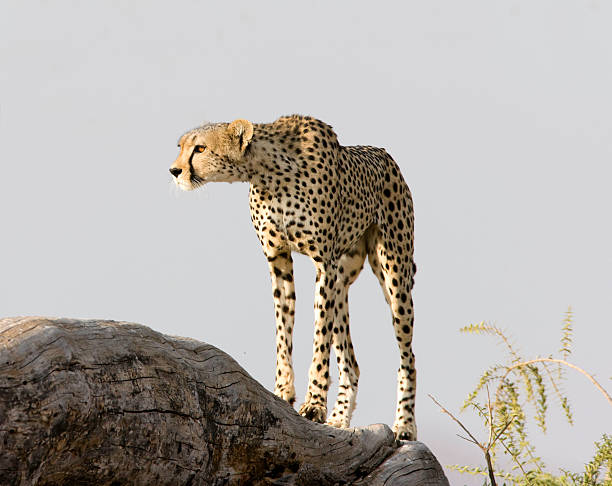cheetah: (153, 114, 264, 196)
